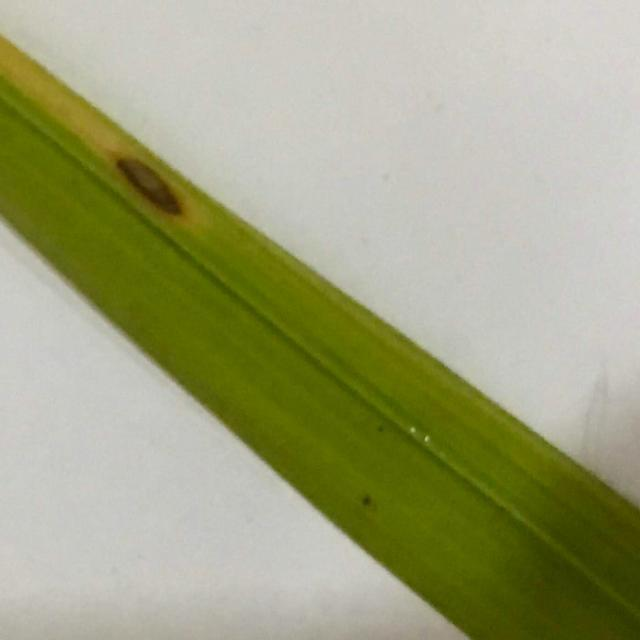Blast: (119, 164, 183, 220)
